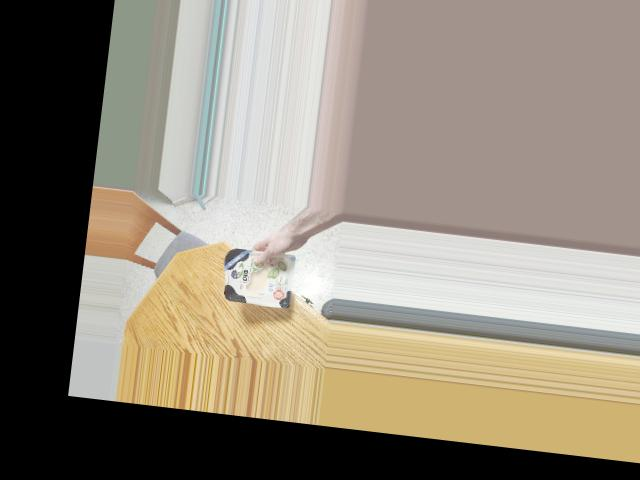cheese: (220, 242, 300, 308)
